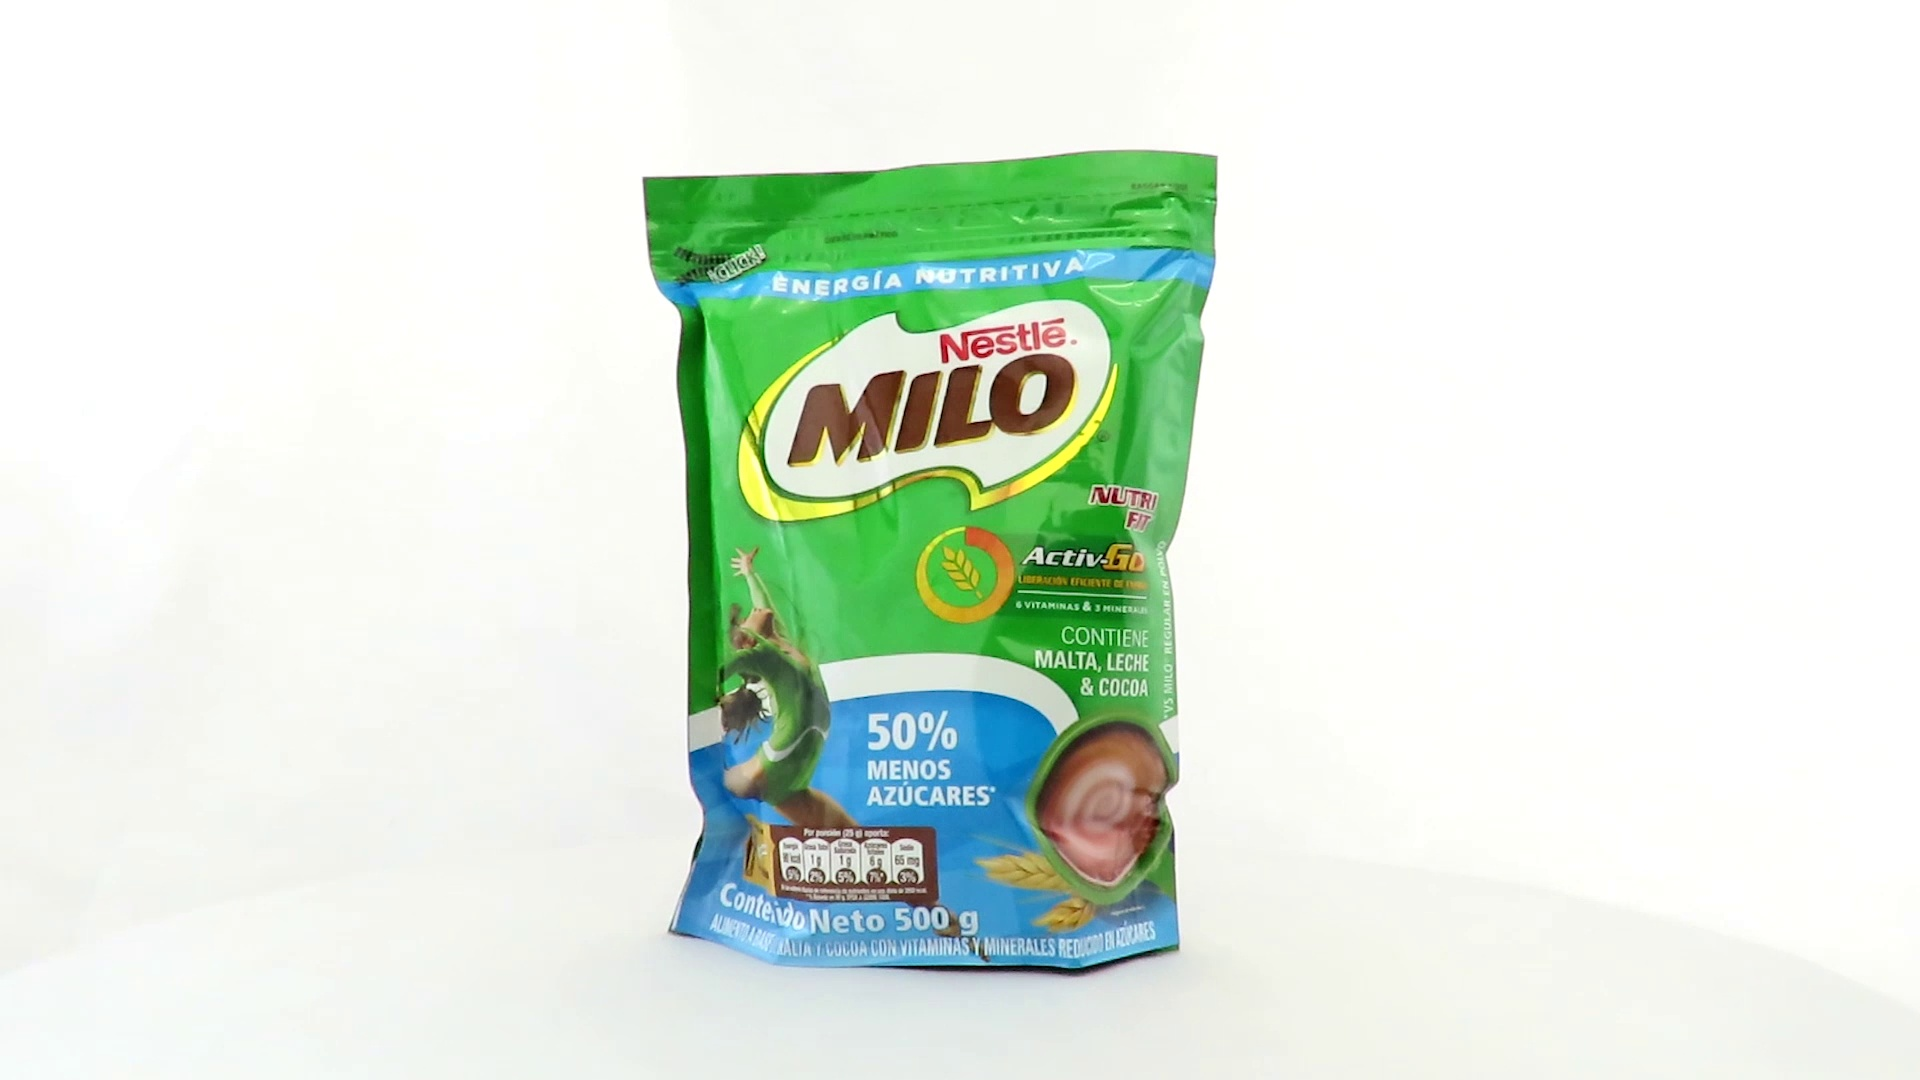COL0170205DYP50000: (637, 144, 1224, 982)
